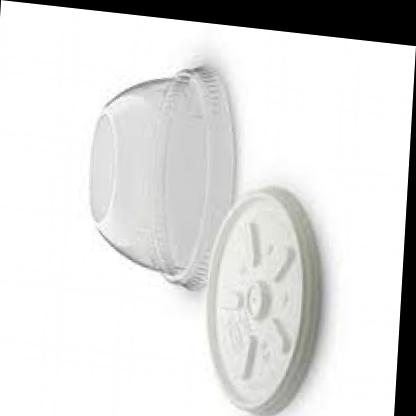Miscellaneous: (35, 35, 390, 416)
